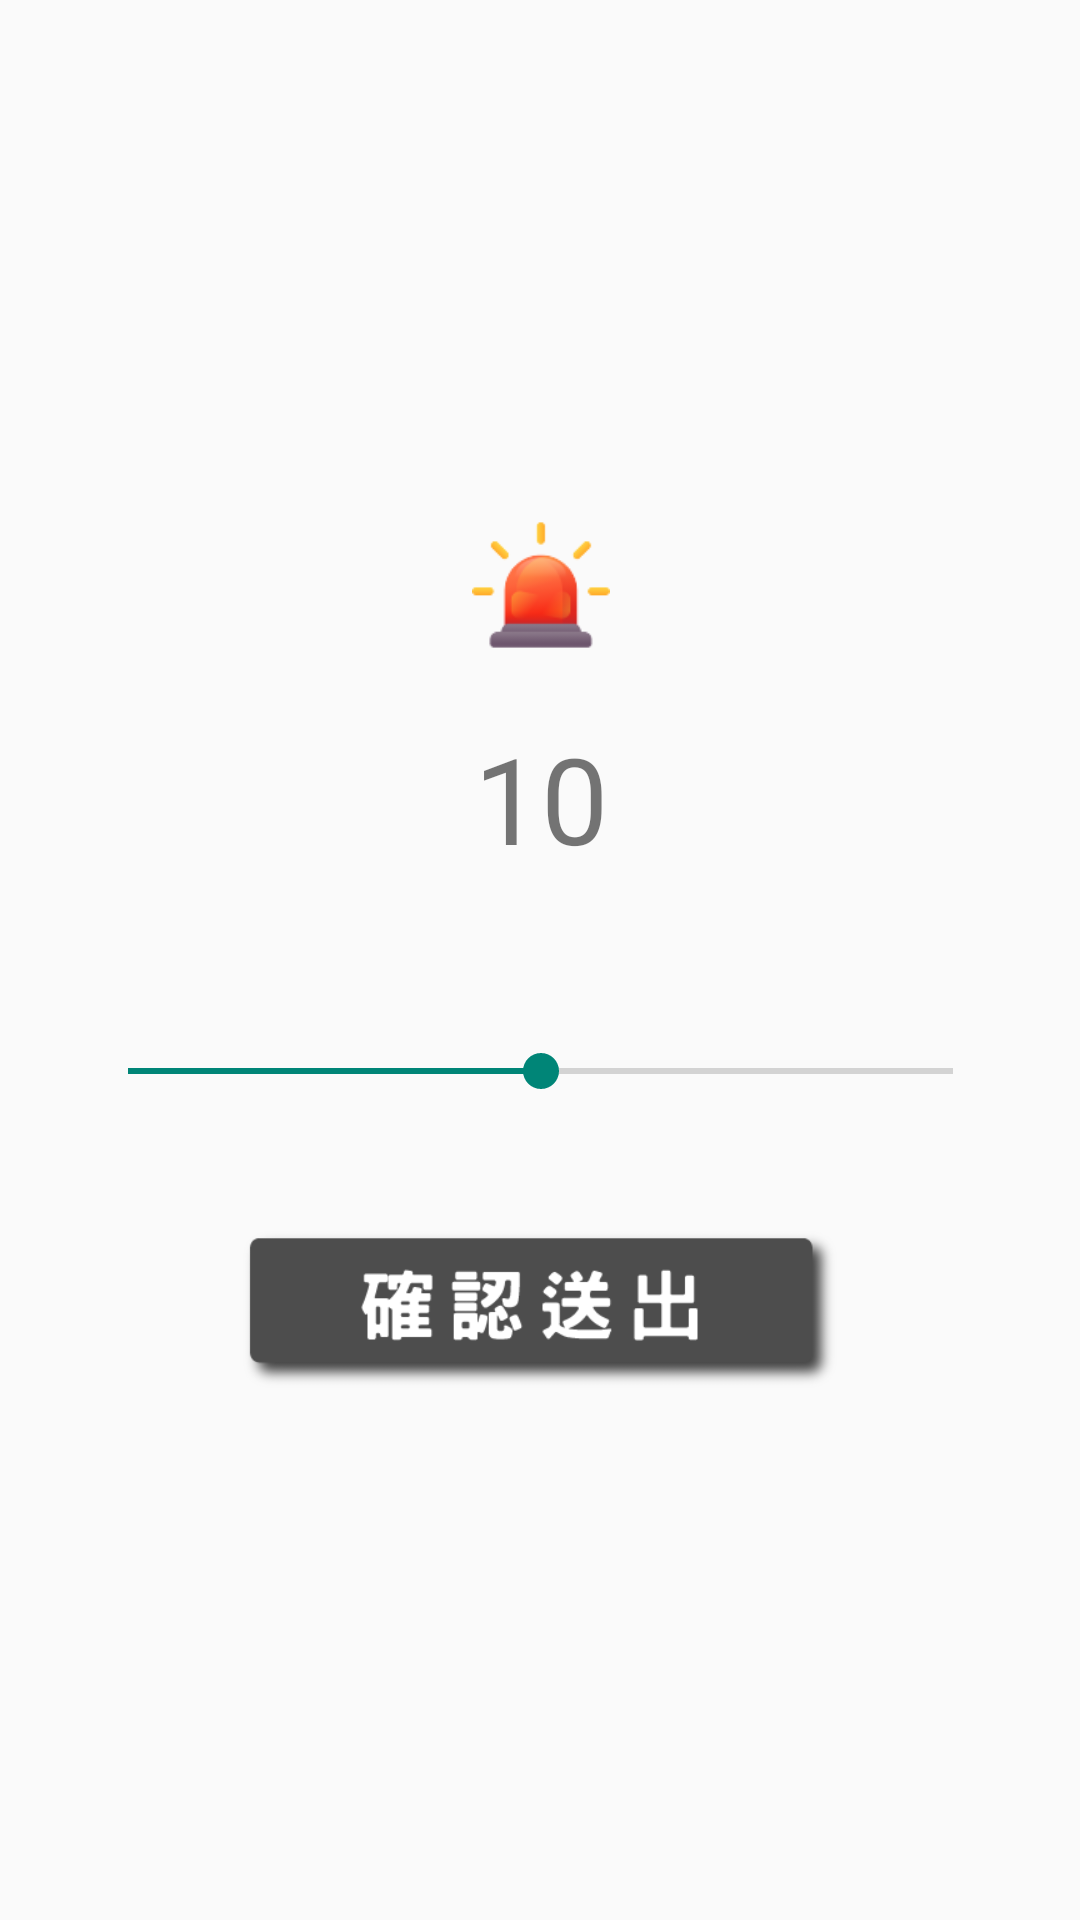

Screen size 1080×1920. Icon name, then its box in pixels as (x1, y1, x2, y2):
warning: (472, 522, 610, 648)
